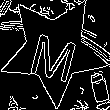M_N: (26, 20, 82, 81)
